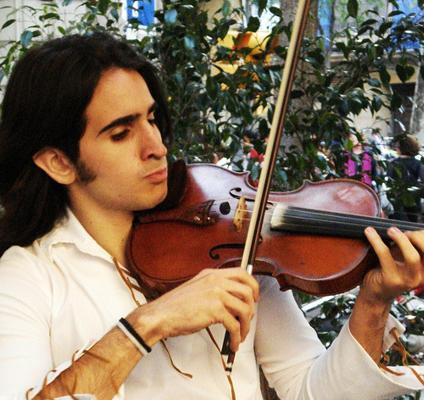person: (1, 37, 424, 400)
